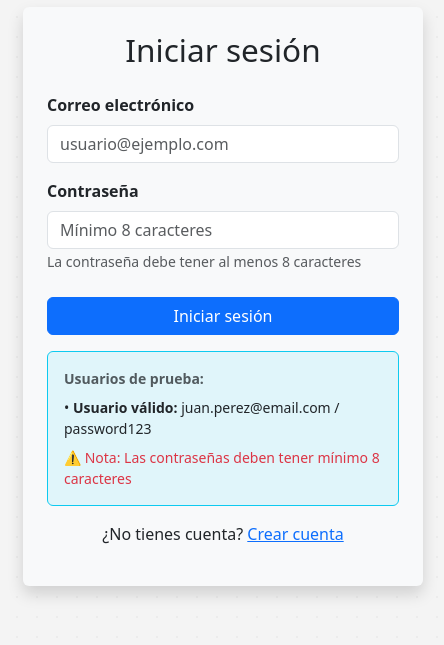
Test: Login Component - Microservicios › muestra mensaje de error cuando hay un error de conexión
Type "test@test.com" into the field labelled "Correo electrónico".
click(223, 144); type("test@test.com")  # box [47,125,399,163]
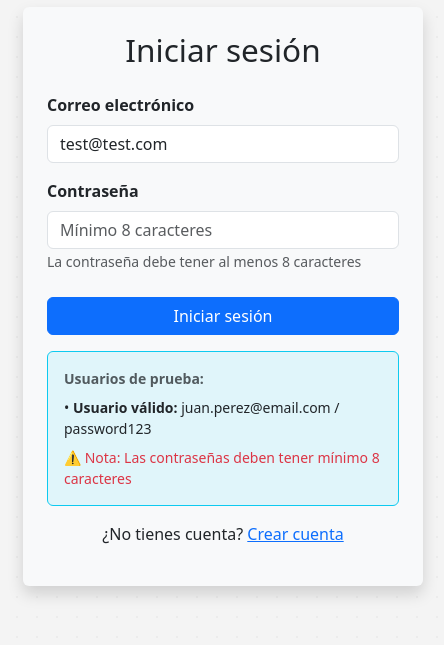
Type "password123" into the password field labelled "Contraseña".
click(223, 230); type("password123")  # box [47,211,399,249]
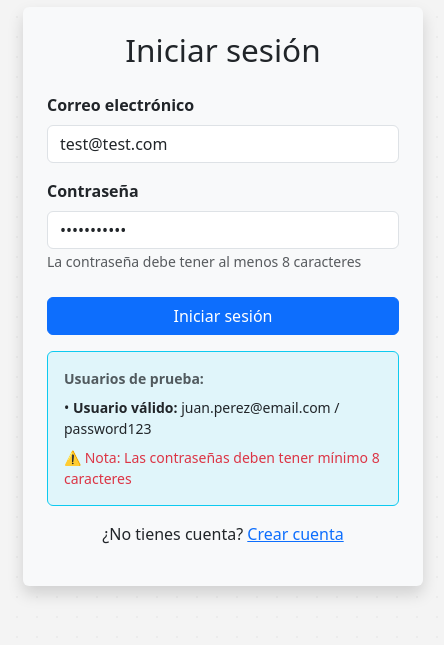
Click the button "Iniciar sesión".
click(223, 316)  # box [47,297,399,335]
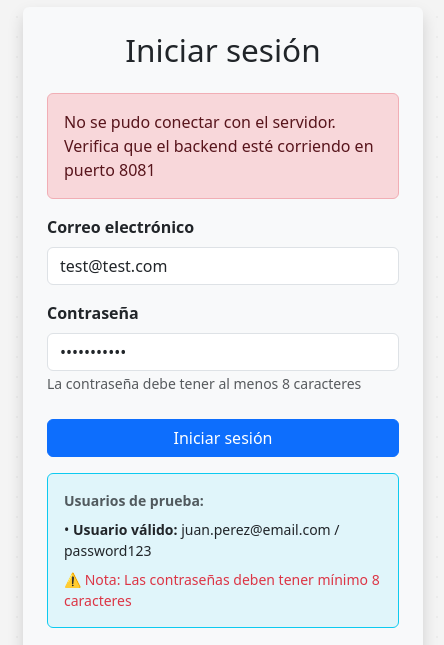
Expected: the text "No se pudo conectar con el servidor" is shown, [64,111,374,181]
